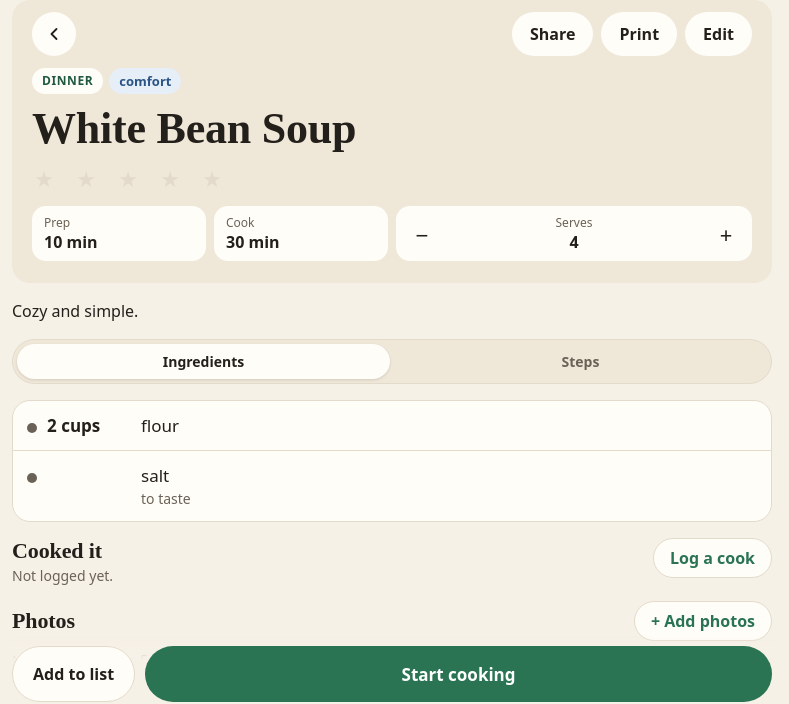
it: RecipeView › switches to the Steps pane and back to Ingredients
Expected: the text "flour" is shown, [141,414,179,437]
Expected: the text "Combine everything." is not shown
Click the tab "Steps". click: x=580, y=362
box: [394,344,767,379]
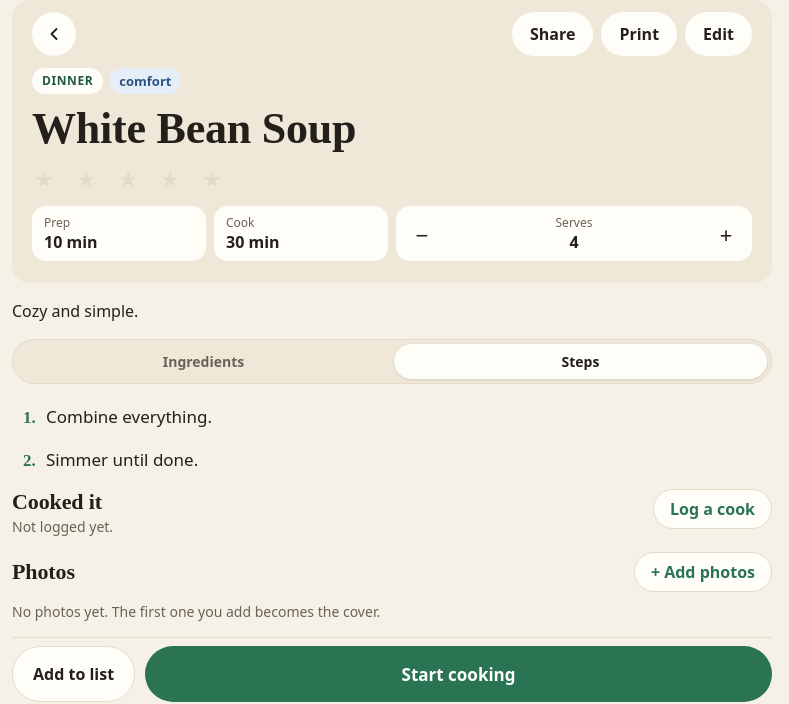
Expected: the list item "Combine everything." is shown, [46,405,212,428]
Expected: the text "flour" is gone
Click the tab "Ingredients". click: x=204, y=362
box: [17,344,390,379]
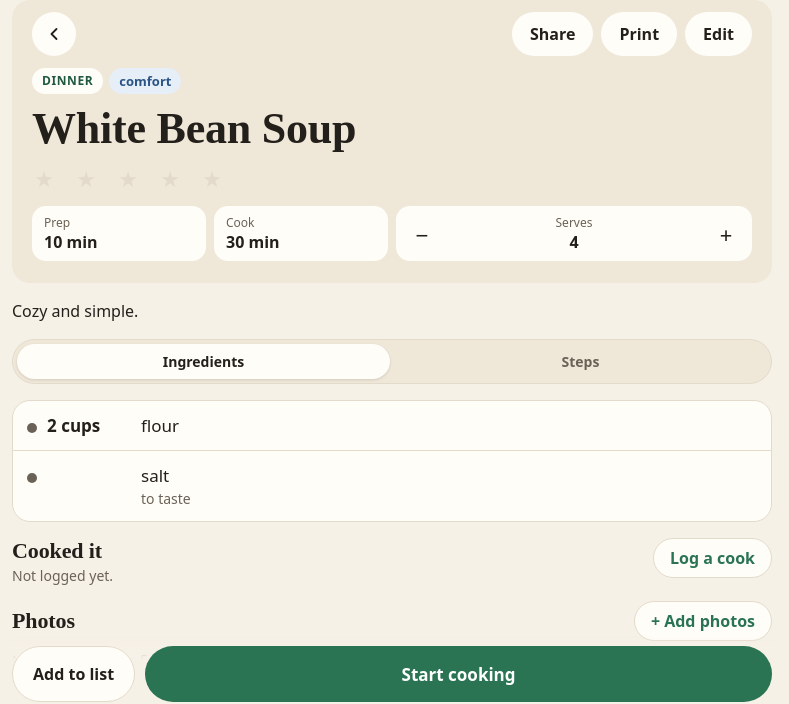
Expected: the text "flour" is shown, [141,414,179,437]
Expected: the list item "Combine everything." is gone
